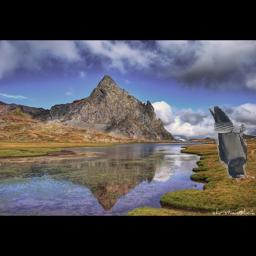Swallow: (209, 106, 248, 178)
